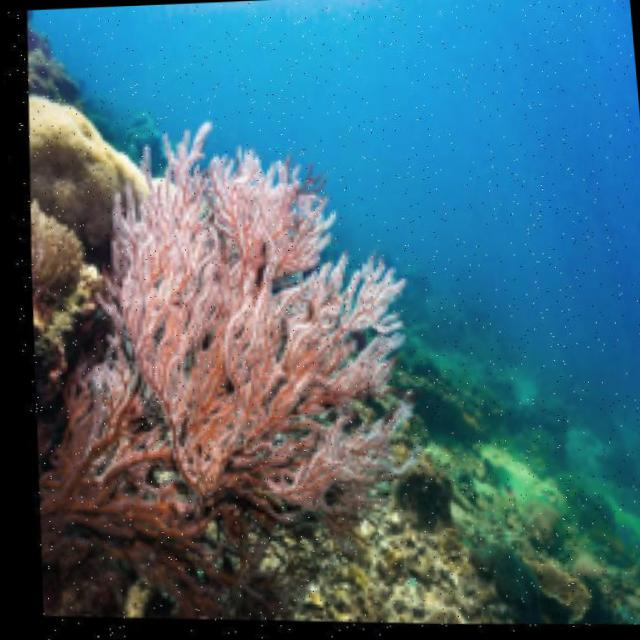Healthy Coral: (68, 106, 455, 580), (3, 33, 179, 347)
